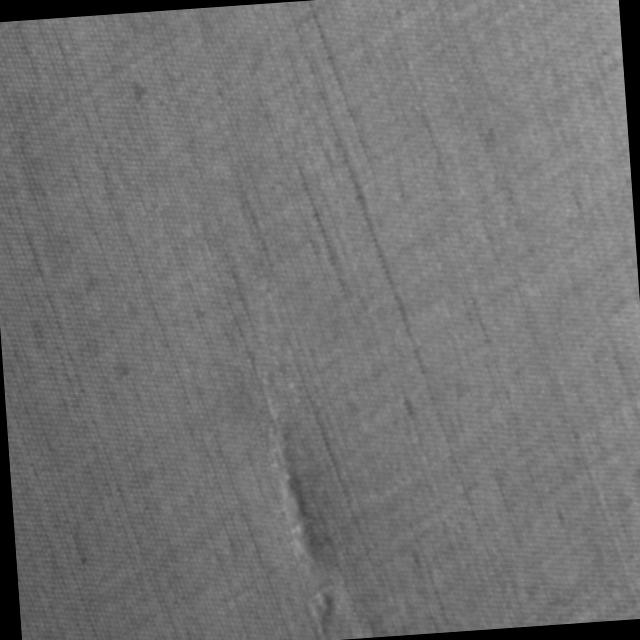thread error: (260, 381, 345, 638)
